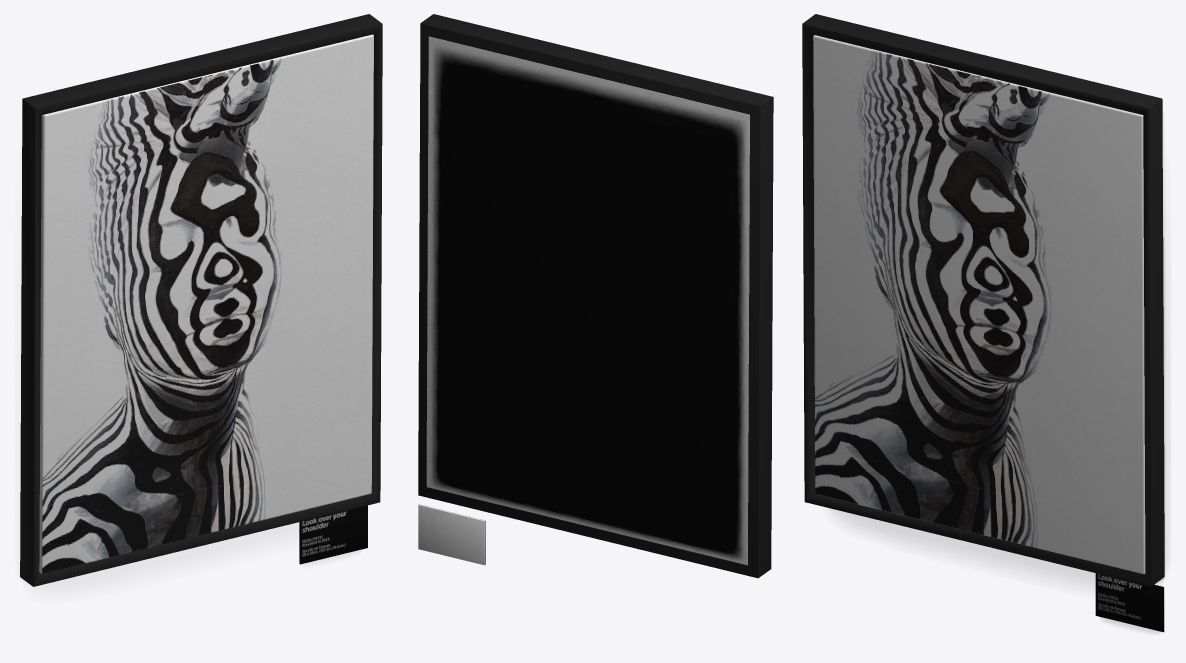
Rendered from loys.glb.
3 views of the same model, side by side, from view 1: azimuth 30°, elevation 25°; view 2: azimuth 150°, elevation 25°; view 3: azimuth 330°, elevation 25° (orthographic). The views are drawn at different scales.
Parts seen in each view (by area): view 1: Canvas, frame, shadow, tag; view 2: Canvas, frame, tag; view 3: Canvas, frame, shadow, tag.
Boxes of the visible parts, x1=… form: Canvas: x1=39, y1=34, x2=373, y2=573; frame: x1=20, y1=14, x2=382, y2=586; shadow: x1=20, y1=214, x2=298, y2=594; tag: x1=299, y1=505, x2=367, y2=564; Canvas: x1=426, y1=36, x2=749, y2=565; frame: x1=418, y1=14, x2=773, y2=578; tag: x1=418, y1=504, x2=485, y2=565; Canvas: x1=813, y1=35, x2=1145, y2=574; frame: x1=802, y1=14, x2=1164, y2=586; shadow: x1=832, y1=158, x2=1168, y2=586; tag: x1=1095, y1=573, x2=1164, y2=632.
Size of the model in its own units: 8.29 by 12.14 by 0.6285.
Materials: 3 (2 with a texture image).
